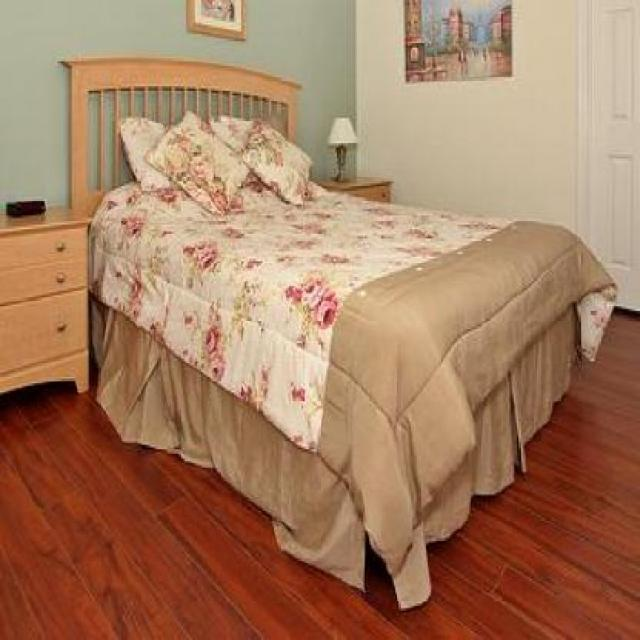Bed: (53, 42, 627, 618)
